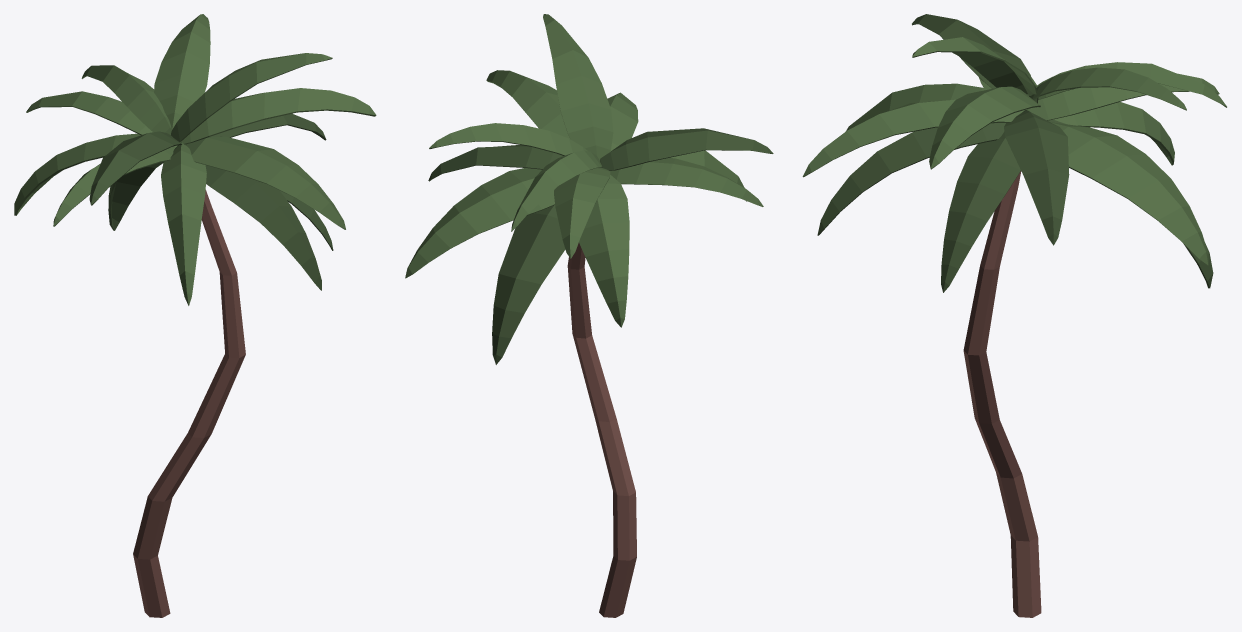
File: palmtree_1.006_lev1.glb
3 renders of one model, left to right at view 1: azimuth 30°, elevation 25°; view 2: azimuth 150°, elevation 25°; view 3: azimuth 270°, elevation 25°, orthographic. The views are drawn at different scales.
Parts seen in each view (by area): view 1: palmtree_1.006_lev1; view 2: palmtree_1.006_lev1; view 3: palmtree_1.006_lev1.
Boxes of the visible parts, x1,y1,x2,y2 form: palmtree_1.006_lev1: [14, 14, 376, 617]; palmtree_1.006_lev1: [405, 14, 773, 617]; palmtree_1.006_lev1: [802, 14, 1226, 617].
Size of the model in its own units: 2.59 by 4.47 by 2.75.
